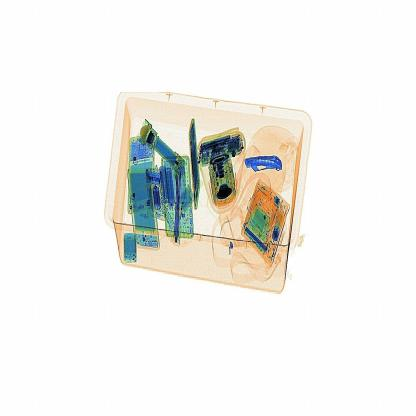knife: (240, 147, 290, 184)
